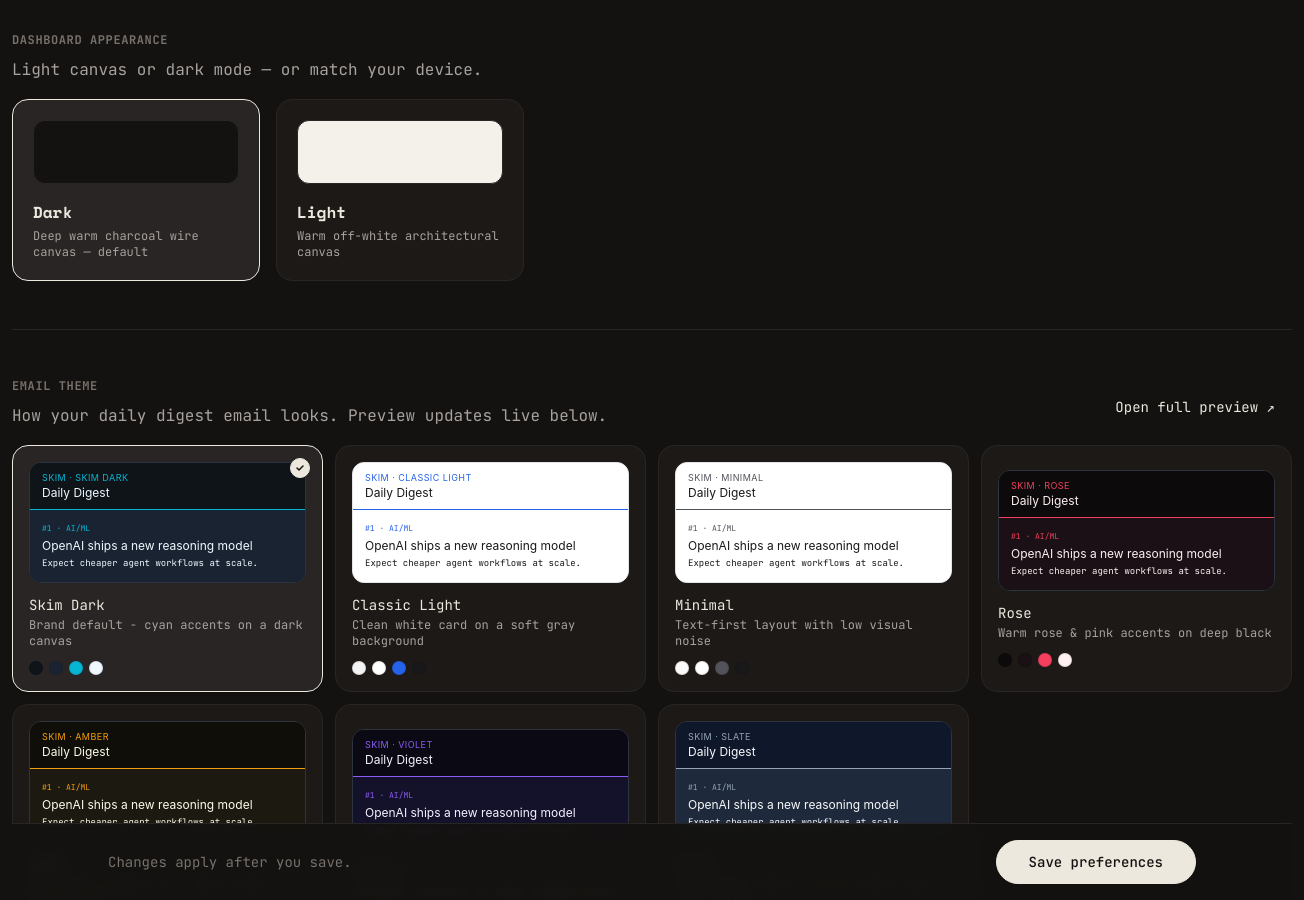
Test: DigestPreferenceForm › shows retry when save fails
Click the button "Save preferences": click(1096, 862) [996,840,1196,884]
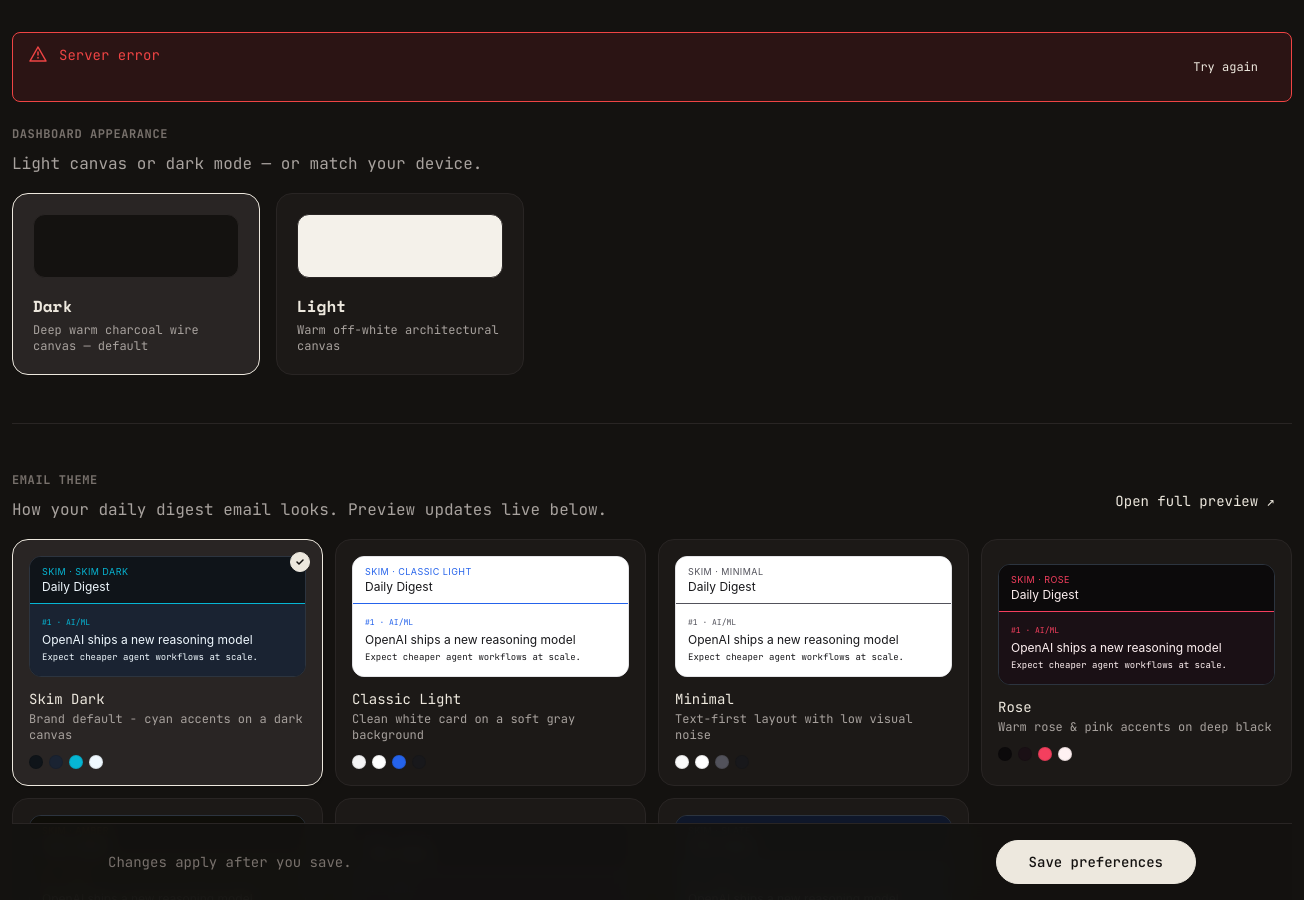
expect the message shows "Server error": met, box [59,46,160,64]
expect the button "Try again" is shown: met, box [1176,45,1275,89]
